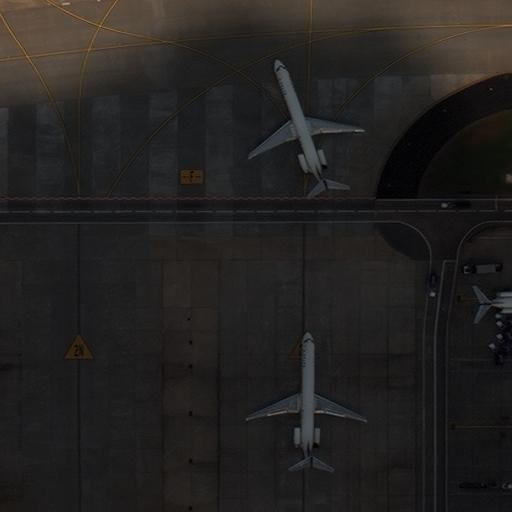Medium Civil Transport: (244, 328, 366, 470), (246, 55, 363, 191)
